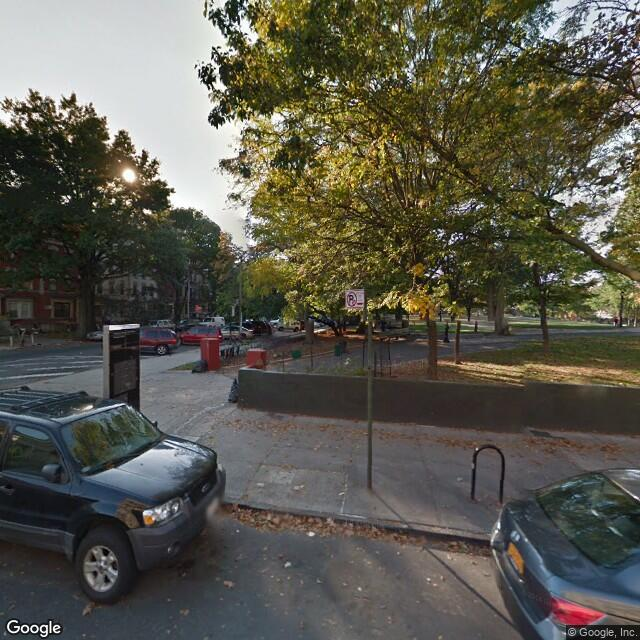litter: (306, 527, 315, 541)
